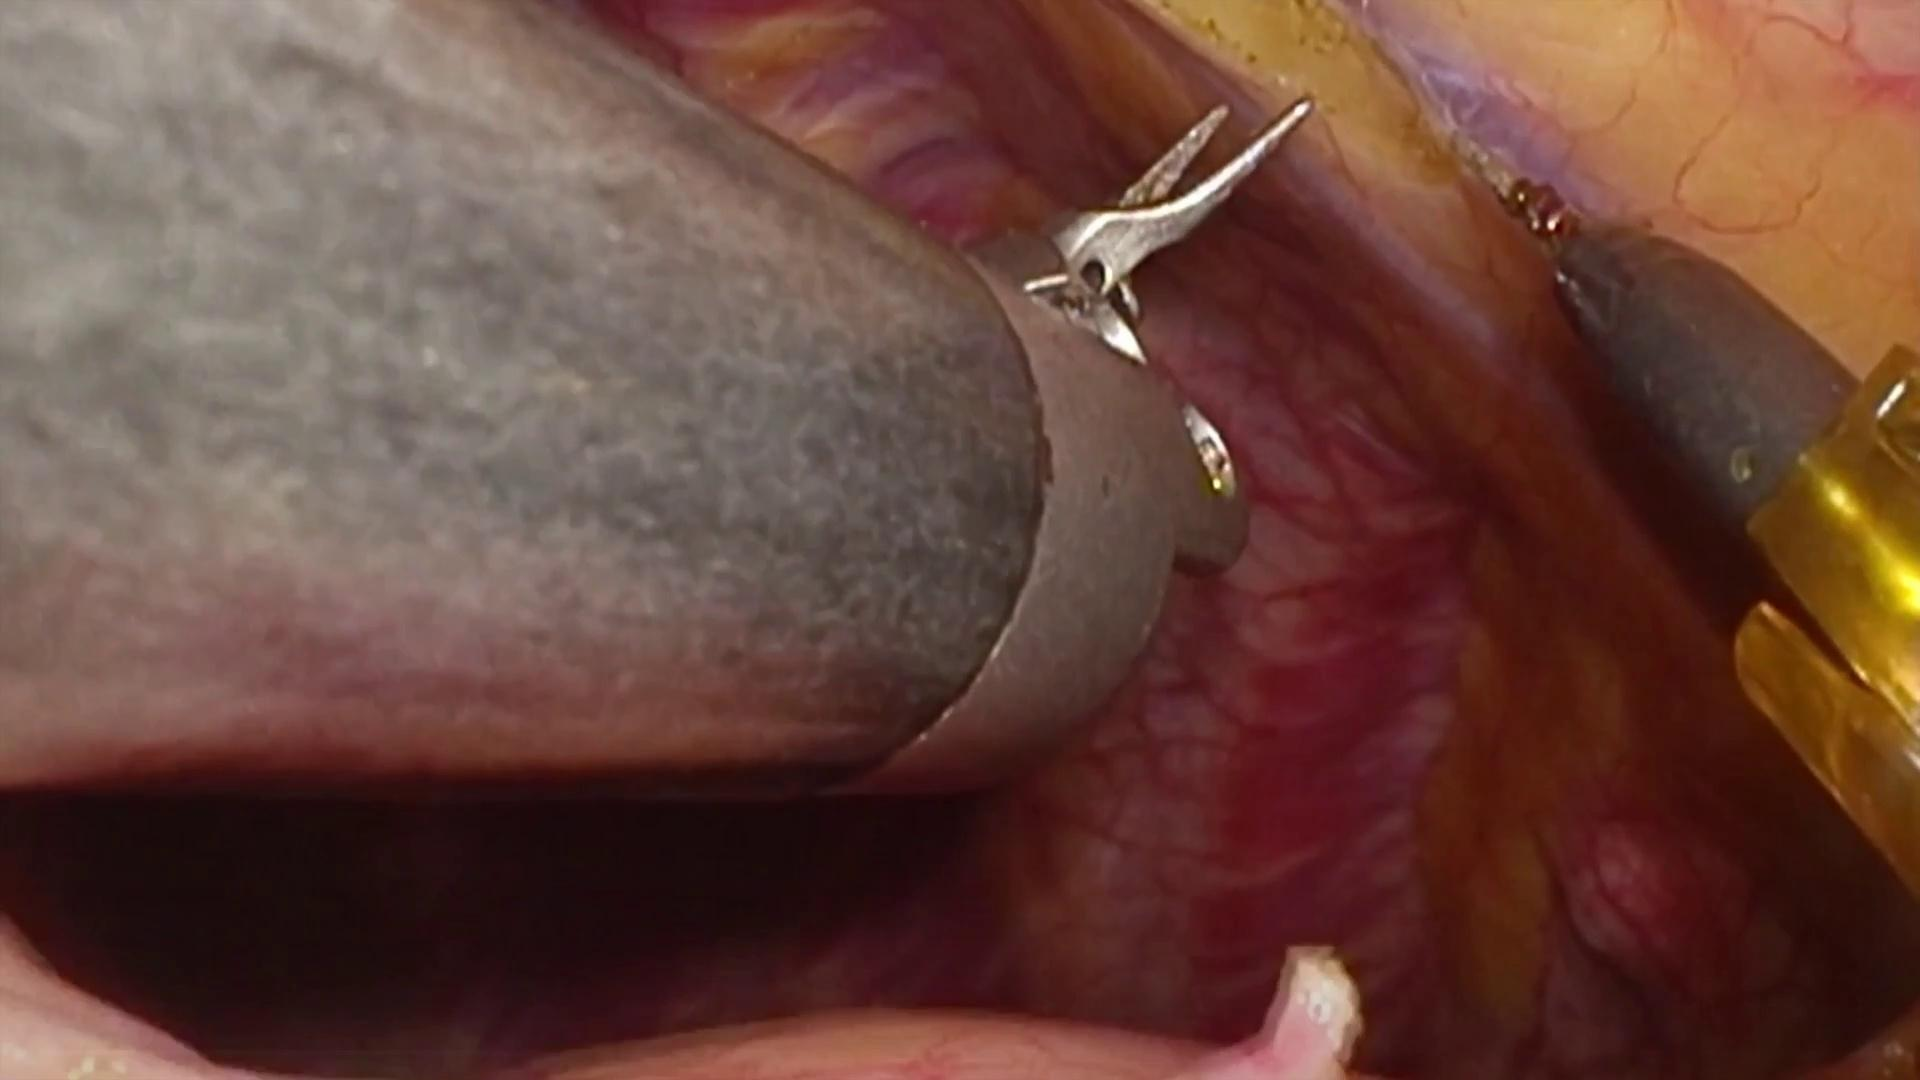Cautery_Spatula: (1462, 132, 1869, 514), (1441, 127, 1588, 260)
Debakey: (1048, 95, 1319, 291)
